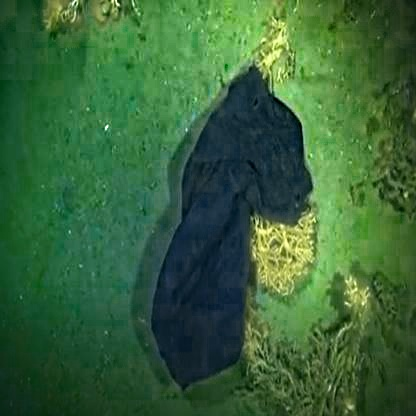plastic: (158, 43, 302, 376)
